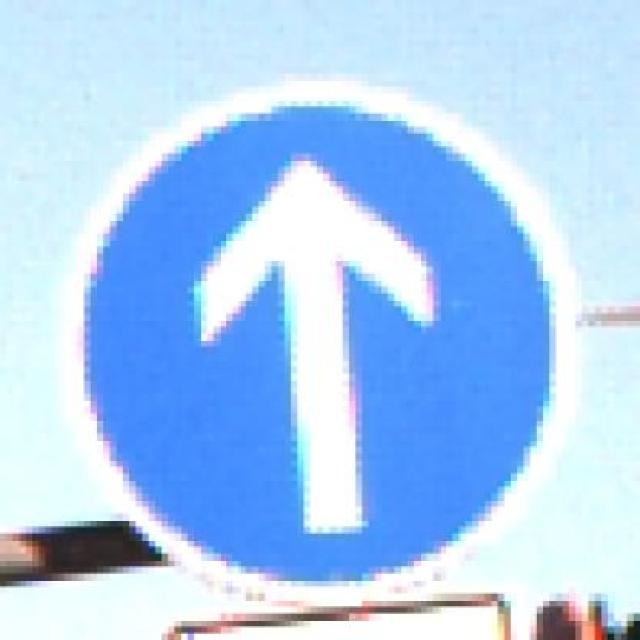Straight Ahead Only: (45, 66, 608, 594)
